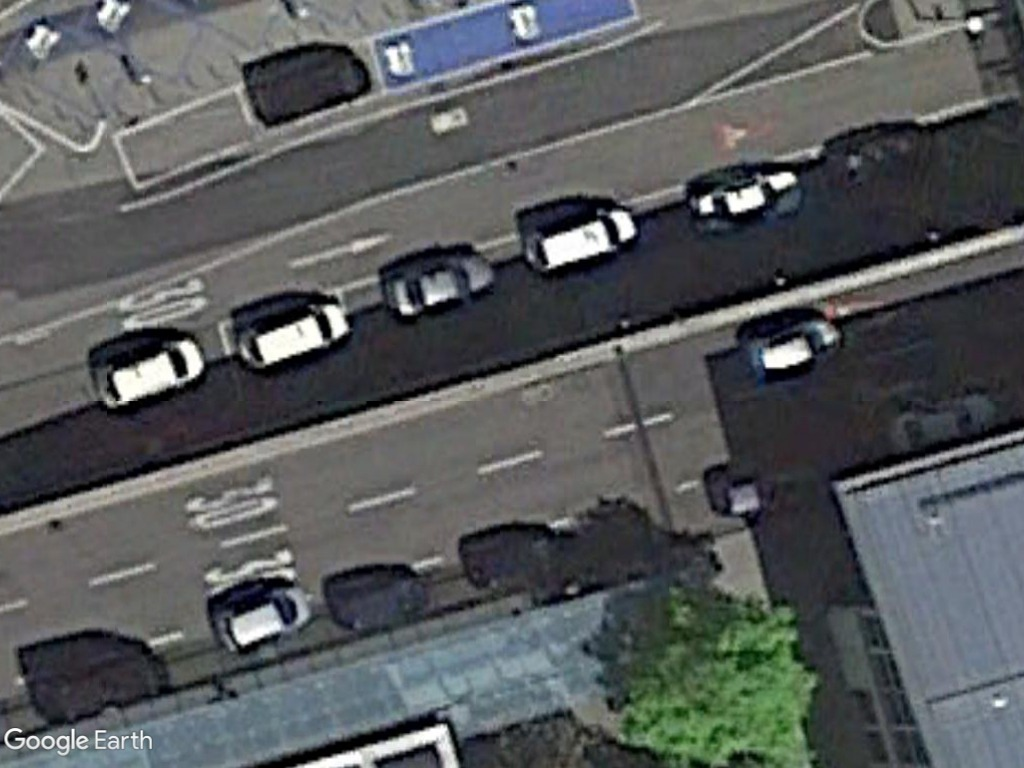car: (522, 204, 642, 281), (93, 332, 209, 411), (232, 302, 350, 375), (384, 250, 496, 325), (208, 581, 314, 657)
